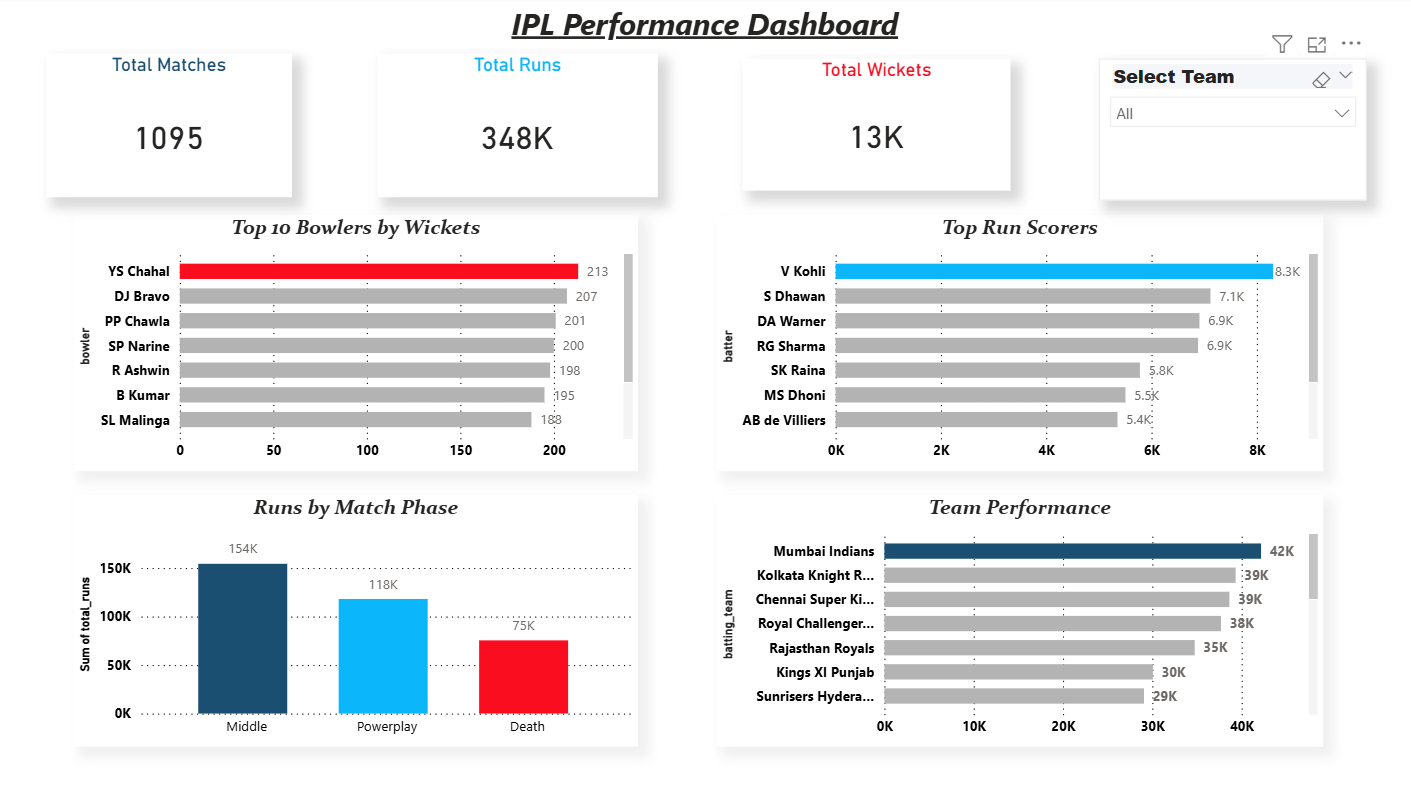

The dashboard page shown, as its layout file describes it:
{"tool":"powerbi","page":{"name":"IPL Dashboard1","canvas":[1280,720],"ordinal":0},"visuals":[{"type":"barChart","title":"Top 10 Bowlers by Wickets","fields":{"Category":["cleaned_ipl_data.bowler"],"Y":["Sum(cleaned_ipl_data.is_wicket)"]},"box":[71.2,197.5,508.8,231.2],"z":0},{"type":"card","title":"Total Wickets","fields":{"Values":["Sum(cleaned_ipl_data.is_wicket)"]},"box":[673.9,56.7,241.7,118.8],"z":1000},{"type":"card","title":"Total Runs","fields":{"Values":["Sum(cleaned_ipl_data.total_runs)"]},"box":[344.4,51.3,252.5,129.6],"z":2000},{"type":"card","title":"Total Matches","fields":{"Values":["Count(cleaned_ipl_data.match_id)"]},"box":[45.9,51.3,221.5,129.6],"z":3000},{"type":"barChart","title":"Top Run Scorers","fields":{"Y":["Sum(cleaned_ipl_data.total_runs)"],"Category":["cleaned_ipl_data.batter"]},"box":[650,197.5,547.5,231.2],"z":4000},{"type":"columnChart","title":"Runs by Match Phase","fields":{"Category":["cleaned_ipl_data.phase"],"Y":["Sum(cleaned_ipl_data.total_runs)"]},"box":[71.2,450,508.8,227.5],"z":5000},{"type":"clusteredBarChart","title":"Team Performance ","fields":{"Category":["cleaned_ipl_data.batting_team"],"Y":["Sum(cleaned_ipl_data.total_runs)"]},"box":[650,450,547.5,227.5],"z":6000},{"type":"textbox","box":[0,1.2,1280,45],"z":7000},{"type":"slicer","fields":{"Values":["cleaned_ipl_data.batting_team"]},"box":[995.3,56.7,241.7,128.3],"z":8000}]}

Visuals, with their boxes in screenshot pixels (x1, y1, x2, y2), scaled from the page's 1280x720 canvas onto the 1411x787 screenshot:
"Top 10 Bowlers by Wickets" barChart: x1=78, y1=216, x2=639, y2=469
"Total Wickets" card: x1=743, y1=62, x2=1009, y2=192
"Total Runs" card: x1=380, y1=56, x2=658, y2=198
"Total Matches" card: x1=51, y1=56, x2=295, y2=198
"Top Run Scorers" barChart: x1=717, y1=216, x2=1320, y2=469
"Runs by Match Phase" columnChart: x1=78, y1=492, x2=639, y2=741
"Team Performance " clusteredBarChart: x1=717, y1=492, x2=1320, y2=741
textbox: x1=0, y1=1, x2=1410, y2=50
slicer - cleaned_ipl_data.batting_team: x1=1097, y1=62, x2=1364, y2=202
